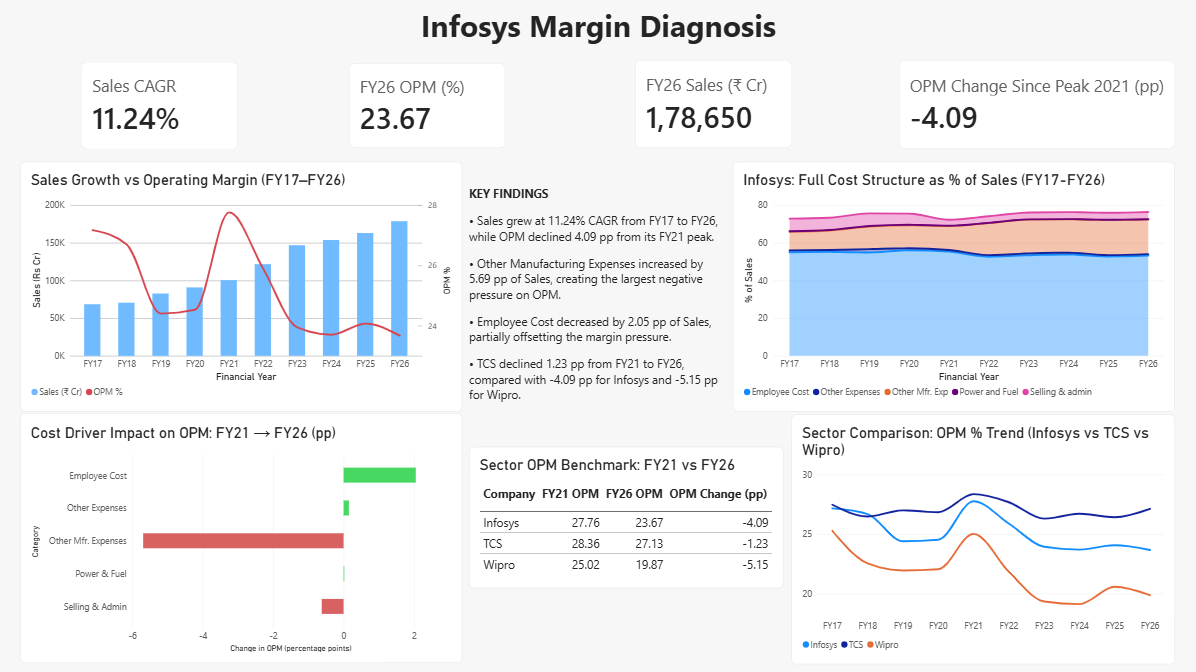

What the dashboard file says about the page in this screenshot:
{"tool":"powerbi","page":{"name":"Page 1","canvas":[1920,1080],"ordinal":0},"visuals":[{"type":"cardVisual","fields":{"Data":["infosys_annual_clean.Latest Sales"]},"box":[1018,100,250,140],"z":0},{"type":"cardVisual","fields":{"Data":["infosys_annual_clean.Latest OPM %"]},"box":[560,104,250,136],"z":1000},{"type":"lineChart","title":"Sector Comparison: OPM % Trend (Infosys vs TCS vs Wipro)","fields":{"Category":["sector_opm_comparison.FY"],"Series":["sector_opm_comparison.Company"],"Y":["Sum(sector_opm_comparison.OPM %)"]},"box":[1268.6,666,613.5,399.9],"z":2000},{"type":"cardVisual","fields":{"Data":["infosys_annual_clean.Sales CAGR"]},"box":[132,102,250,140],"z":3000},{"type":"lineStackedColumnComboChart","title":"Sales Growth vs Operating Margin (FY17–FY26)","fields":{"Category":["infosys_annual_clean.FY"],"Y":["Sum(infosys_annual_clean.Sales)"],"Y2":["Sum(infosys_annual_clean.OPM %)"]},"box":[34.4,262.4,707.6,399.9],"z":4000},{"type":"stackedAreaChart","title":"Infosys: Full Cost Structure as % of Sales (FY17-FY26)","fields":{"Category":["infosys_annual_clean.FY"],"Y":["Sum(infosys_annual_clean.Employee Cost % of Sales)","Sum(infosys_annual_clean.Other Expenses % of Sales)","Sum(infosys_annual_clean.Other Mfr. Exp % of Sales)","Sum(infosys_annual_clean.Power and Fuel % of Sales)","Sum(infosys_annual_clean.Selling and admin % of Sales)"]},"box":[1174.5,262.4,707.6,399.9],"z":5000},{"type":"textbox","box":[560,10,798.1,92.3],"z":6000},{"type":"cardVisual","fields":{"Data":["infosys_annual_clean.OPM Change Since 2021"]},"box":[1440.5,99.5,441.6,141.2],"z":7000},{"type":"clusteredBarChart","title":"Cost Driver Impact on OPM: FY21 → FY26 (pp)","fields":{"Category":["MarginBridge.Category"],"Y":["Sum(MarginBridge.Change)"]},"box":[34.4,664.1,707.6,399.9],"z":8000},{"type":"tableEx","title":"Sector OPM Benchmark: FY21 vs FY26","fields":{"Values":["sector_opm_comparison.Company","sector_opm_comparison.FY21 OPM","sector_opm_comparison.FY26 OPM","sector_opm_comparison.OPM Change (pp)"]},"box":[751,718.4,503.1,226.2],"z":9000},{"type":"textbox","box":[752,300,408,362],"z":10000}]}

Visuals, with their boxes in screenshot pixels (x1, y1, x2, y2), scaled from the page's 1920x1080 canvas onto the 1196x672 screenshot:
cardVisual - infosys_annual_clean.Latest Sales: (634,62,790,149)
cardVisual - infosys_annual_clean.Latest OPM %: (349,65,505,149)
"Sector Comparison: OPM % Trend (Infosys vs TCS vs Wipro)" lineChart: (790,414,1172,663)
cardVisual - infosys_annual_clean.Sales CAGR: (82,63,238,151)
"Sales Growth vs Operating Margin (FY17–FY26)" lineStackedColumnComboChart: (21,163,462,412)
"Infosys: Full Cost Structure as % of Sales (FY17-FY26)" stackedAreaChart: (732,163,1172,412)
textbox: (349,6,846,64)
cardVisual - infosys_annual_clean.OPM Change Since 2021: (897,62,1172,150)
"Cost Driver Impact on OPM: FY21 → FY26 (pp)" clusteredBarChart: (21,413,462,662)
"Sector OPM Benchmark: FY21 vs FY26" tableEx: (468,447,781,588)
textbox: (468,187,723,412)
